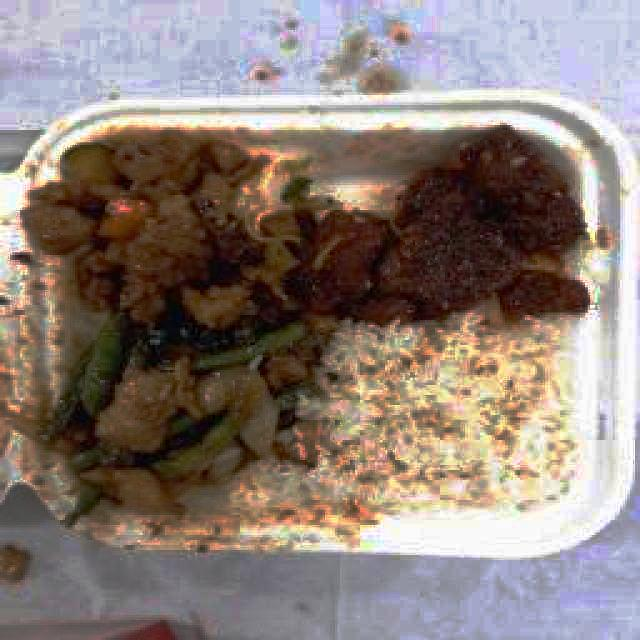Beijing Beef: (308, 127, 580, 311)
Kung Pao Chicken: (34, 140, 306, 324)
String Bean Chicken Breast: (51, 323, 303, 507)
rice: (322, 333, 575, 484)
